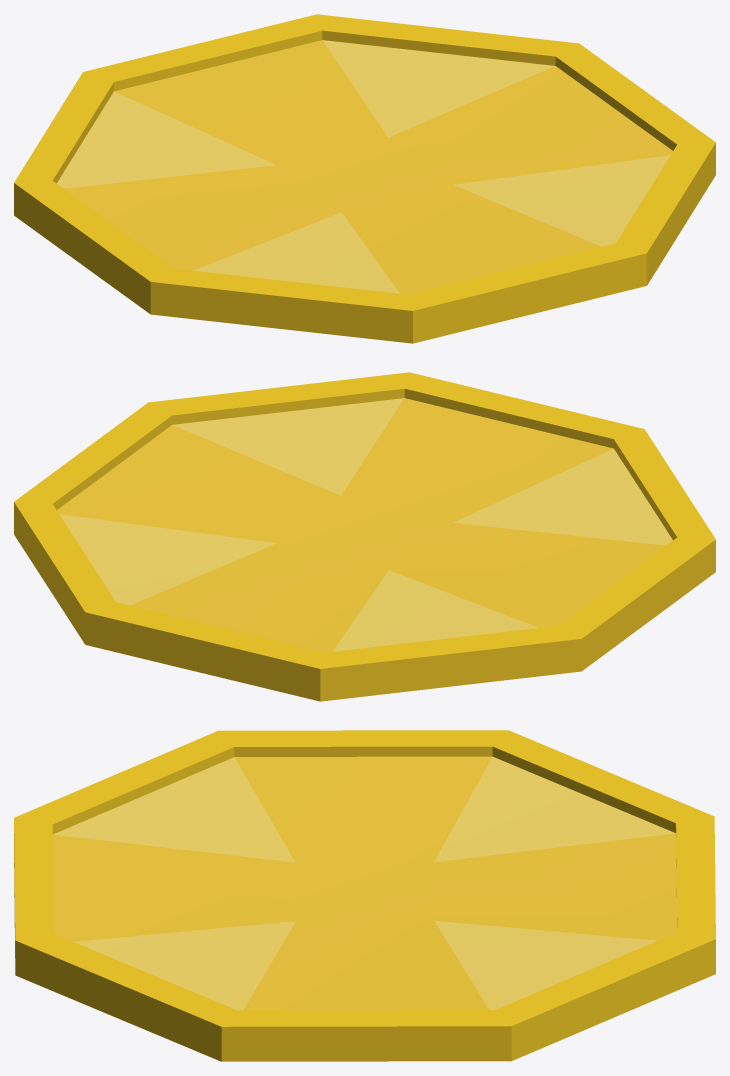
The model's file is Lemon.FBX.
3 views of the same model, one above another, from view 1: azimuth 30°, elevation 25°; view 2: azimuth 150°, elevation 25°; view 3: azimuth 270°, elevation 25° (orthographic). The views are drawn at different scales.
Parts seen in each view (by area): view 1: Lemon; view 2: Lemon; view 3: Lemon.
Boxes of the visible parts, box(x1,y1,x2,y2) form: Lemon: box(14, 14, 715, 343); Lemon: box(14, 372, 715, 701); Lemon: box(14, 730, 715, 1061).
Size of the model in its own units: 9.09 by 9.09 by 0.5.
